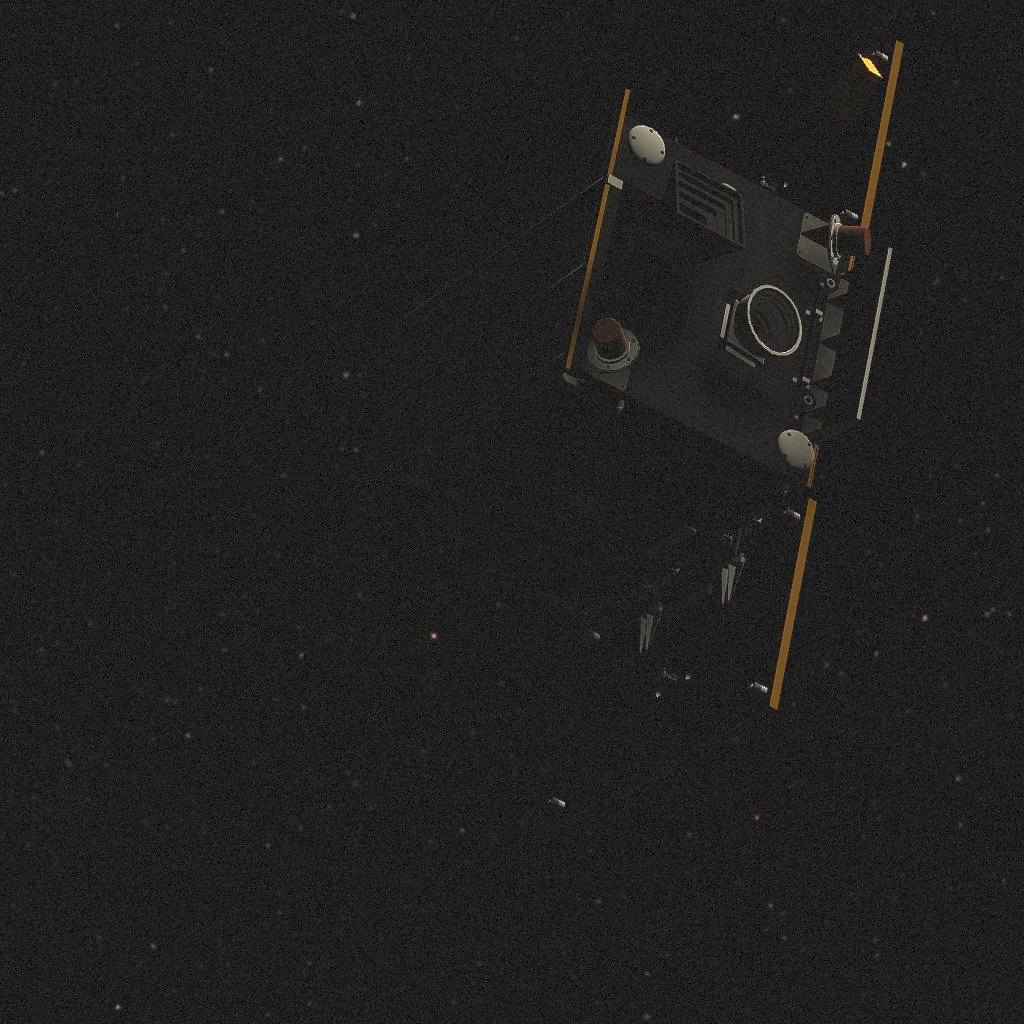proba_2: (350, 0, 904, 833)
